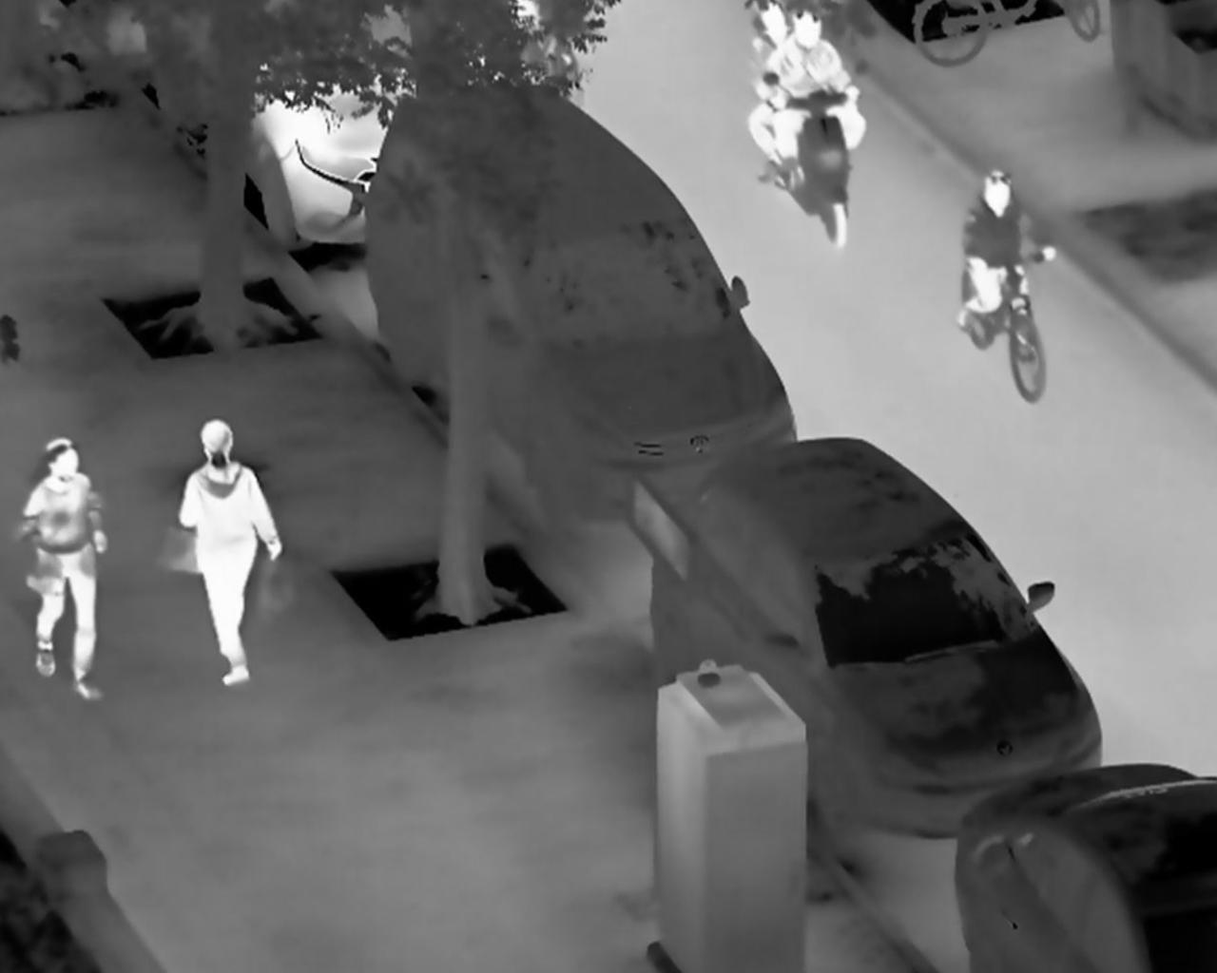person: (178, 416, 283, 685), (19, 434, 109, 702), (956, 170, 1056, 333), (764, 10, 866, 167)
